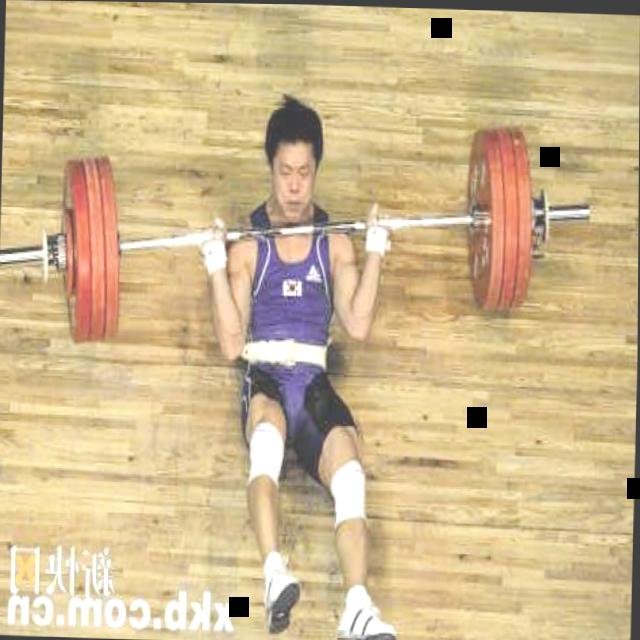Fall-Detected: (188, 79, 412, 640)
